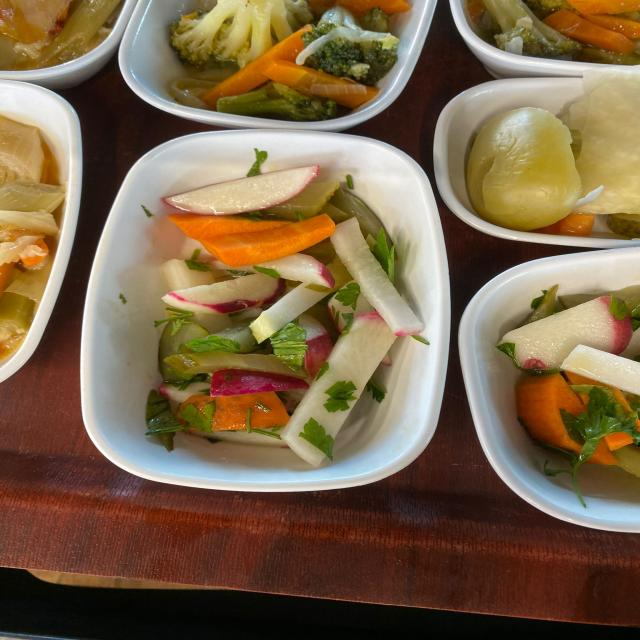yan_yemek: (121, 134, 421, 488)
